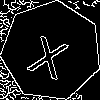X: (26, 26, 74, 81)
